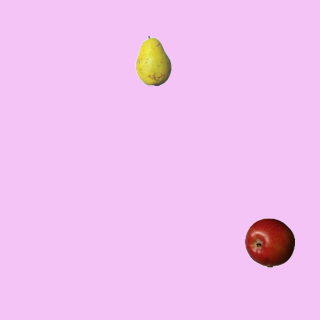Apple Braeburn: (244, 217, 294, 267)
Pear Monster: (128, 35, 178, 85)
